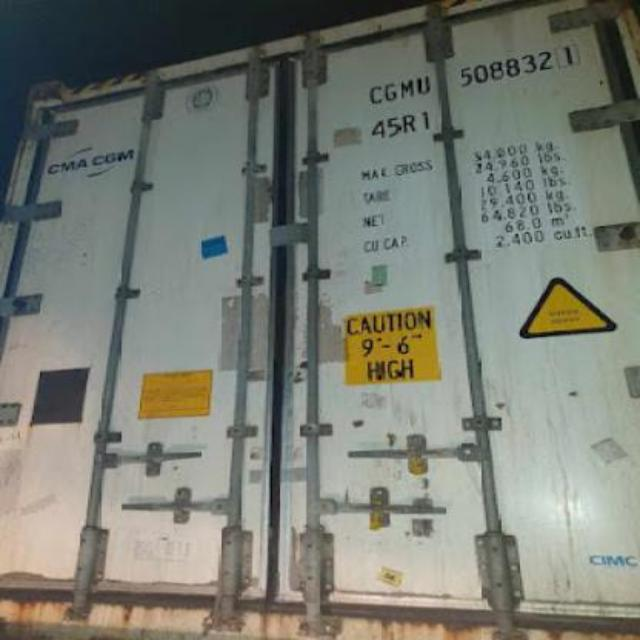0: (472, 60, 490, 88)
1: (558, 41, 584, 70)
2: (534, 47, 556, 71)
3: (520, 52, 536, 78)
5: (454, 62, 472, 88)
8: (486, 54, 504, 82), (504, 52, 520, 82)
C: (364, 82, 384, 106)
G: (384, 78, 398, 104)
M: (396, 76, 416, 102)
U: (414, 68, 434, 98)
